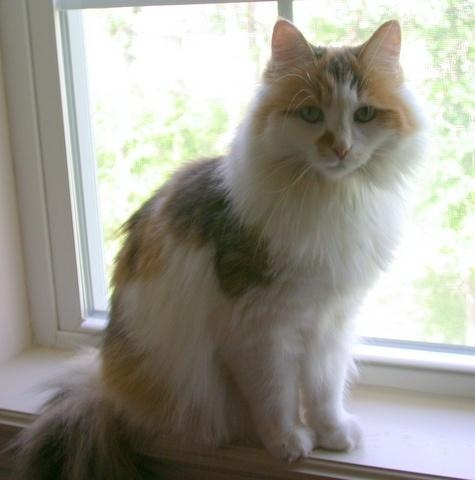cat: (36, 20, 430, 474)
